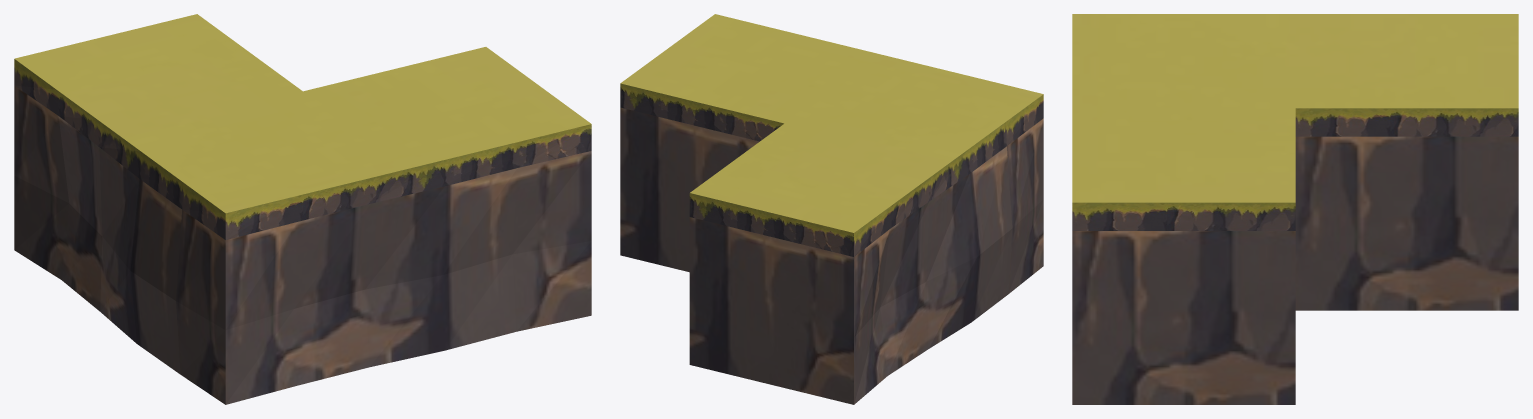
The model's file is SM_RC_Terrain_CliffCorner_Outer_8x8x4.gltf.
3 views of the same model, side by side, from view 1: azimuth 30°, elevation 25°; view 2: azimuth 150°, elevation 25°; view 3: azimuth 270°, elevation 25° (orthographic). The views are drawn at different scales.
Parts seen in each view (by area): view 1: SM_RC_Terrain_CliffCorner_Outer_8x8x4; view 2: SM_RC_Terrain_CliffCorner_Outer_8x8x4; view 3: SM_RC_Terrain_CliffCorner_Outer_8x8x4.
Boxes of the visible parts, x1,y1,x2,y2 form: SM_RC_Terrain_CliffCorner_Outer_8x8x4: (14,14,591,404); SM_RC_Terrain_CliffCorner_Outer_8x8x4: (620,14,1043,404); SM_RC_Terrain_CliffCorner_Outer_8x8x4: (1072,14,1518,404).
Size of the model in its own units: 8.23 by 4 by 8.
Materials: 1 (1 with a texture image).
